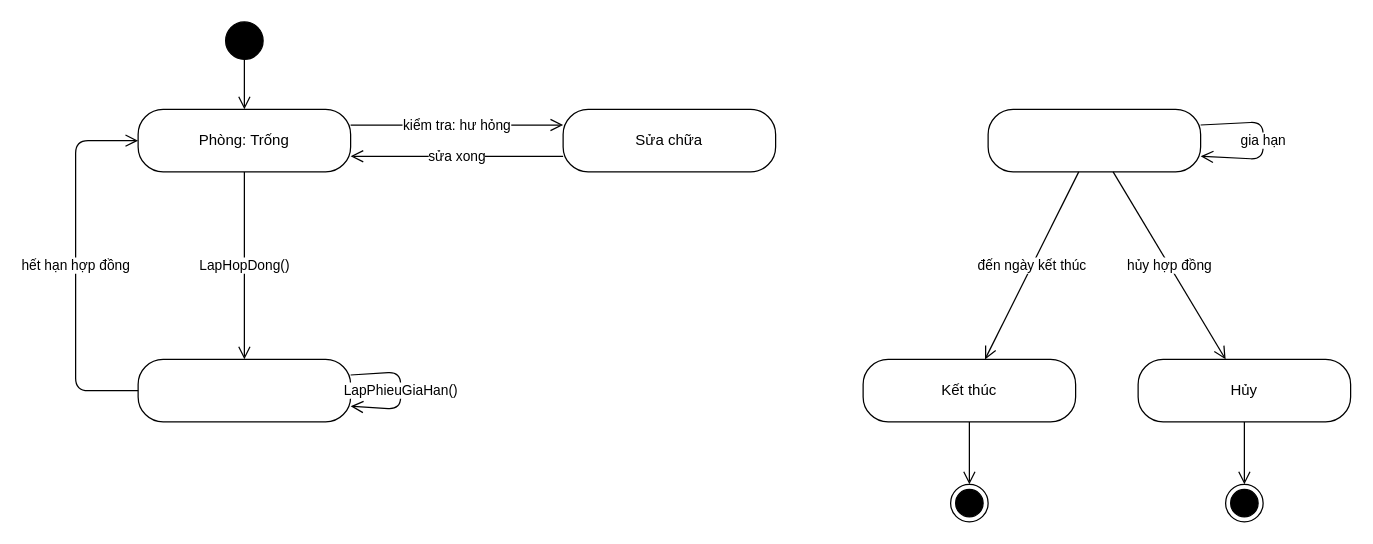
This 1373x544 diagram has some shape labels left out. Here are the shapes that lost their labels. From the top down, the centre of each, then its label:
the point at 1094,140: Hợp đồng: Hiệu lực
the point at 244,390: Đang thuê
